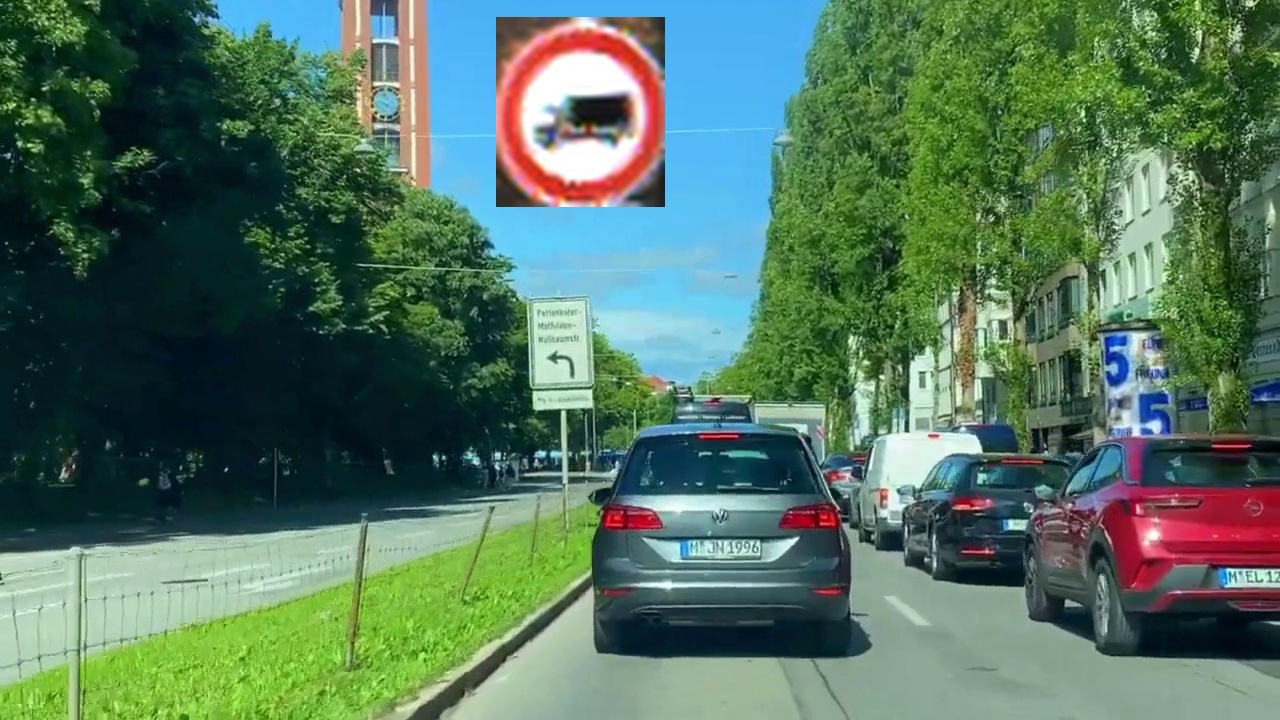Veh >3.5t prohib: (496, 17, 665, 207)
